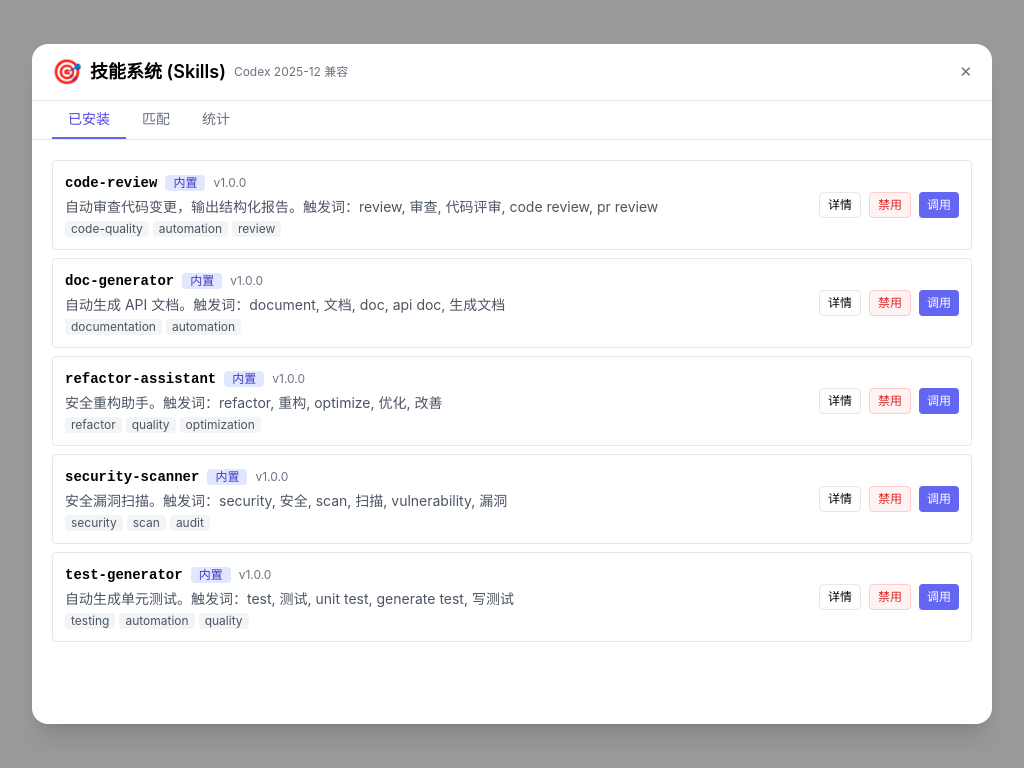
Test: SkillsPanel › 禁用/启用 Skill
What coordinates should you click on to do the following:
click the button with test id "skills-toggle-code-review"
I would click on:
 (890, 205)
Its box is 869,192 -> 911,218.
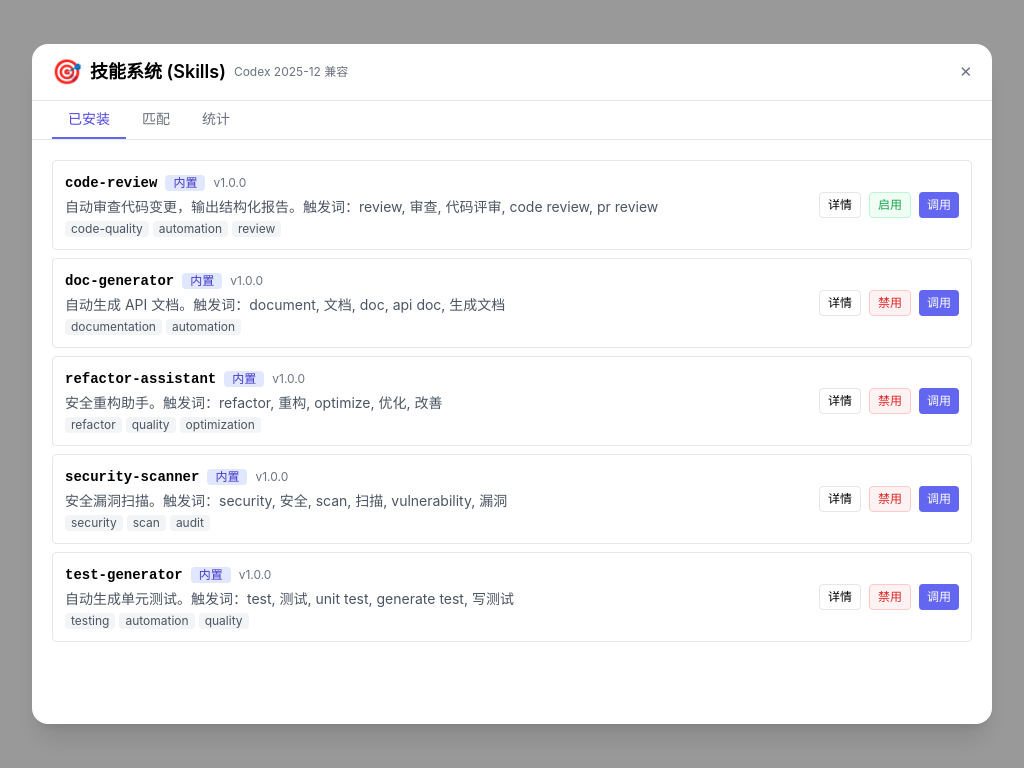
expect the button with test id "skills-toggle-code-review" reads "启用": met, box 869,192 -> 911,218
